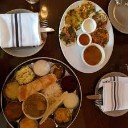dosa: (15, 74, 59, 97)
